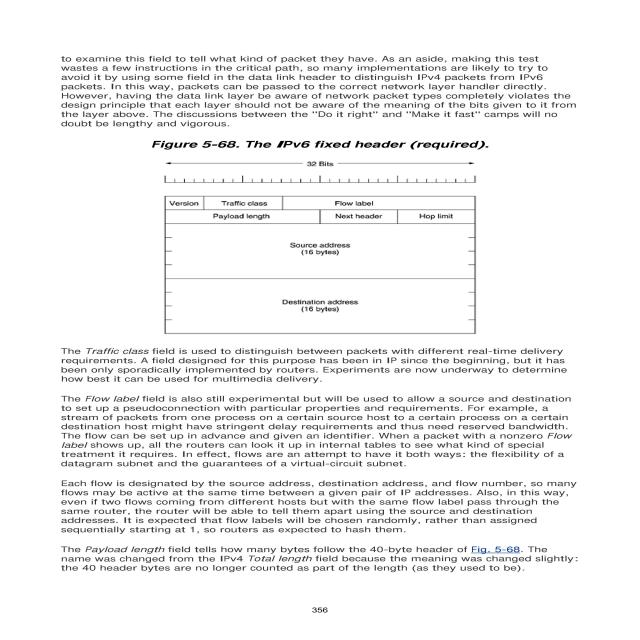diagram: (132, 136, 530, 348)
